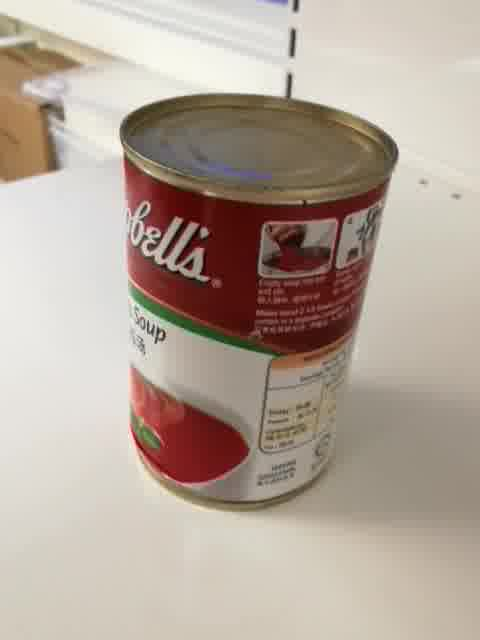tomatosoup: (118, 89, 399, 516)
